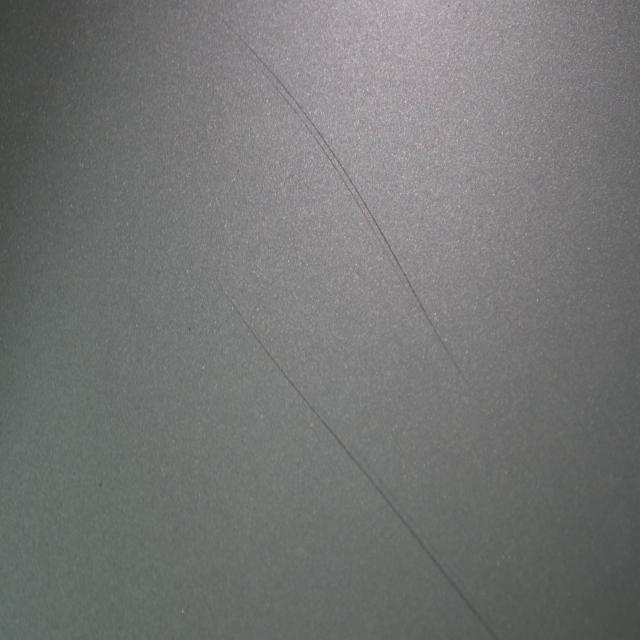scratch: (207, 265, 504, 640), (220, 10, 471, 388)
